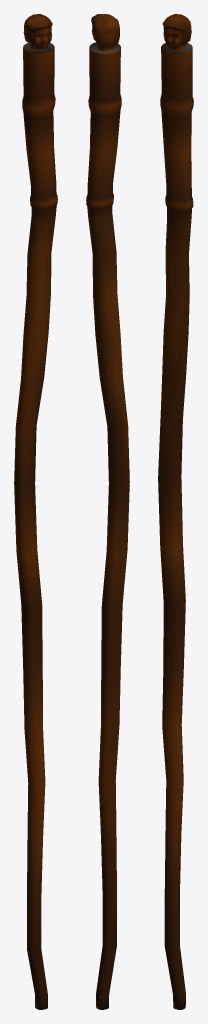
Rendered from baston.fbx.
The picture shows the model from 3 angles, left to right: view 1: azimuth 30°, elevation 25°; view 2: azimuth 210°, elevation 25°; view 3: azimuth 330°, elevation 25°; orthographic projection.
Parts seen in each view (by area): view 1: baston1:baston1; view 2: baston1:baston1; view 3: baston1:baston1.
Boxes of the visible parts, <box> form: baston1:baston1: <box>14,14,57,1009</box>; baston1:baston1: <box>86,14,129,1009</box>; baston1:baston1: <box>158,14,193,1009</box>.
Size of the model in its own units: 0.8469 by 21.96 by 0.6756.
